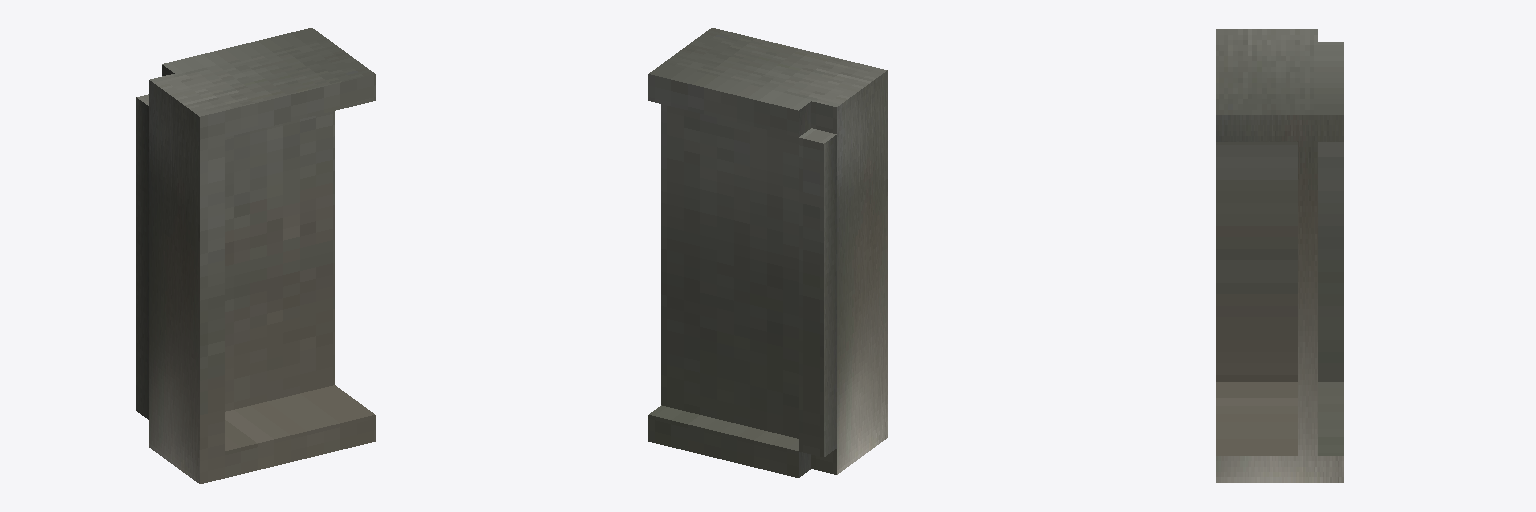
The picture shows the model from 3 angles: view 1: azimuth 30°, elevation 25°; view 2: azimuth 150°, elevation 25°; view 3: azimuth 270°, elevation 25°; orthographic projection.
Visible parts, largest first — view 1: Cube.003; view 2: Cube.003; view 3: Cube.003.
Part boxes in pixels (x1,y1,x2,y2): Cube.003: (136, 28, 375, 483); Cube.003: (648, 28, 887, 477); Cube.003: (1216, 29, 1343, 482).
Size of the model in its own units: 0.5 by 1 by 0.3131.
1 materials, 1 textured.